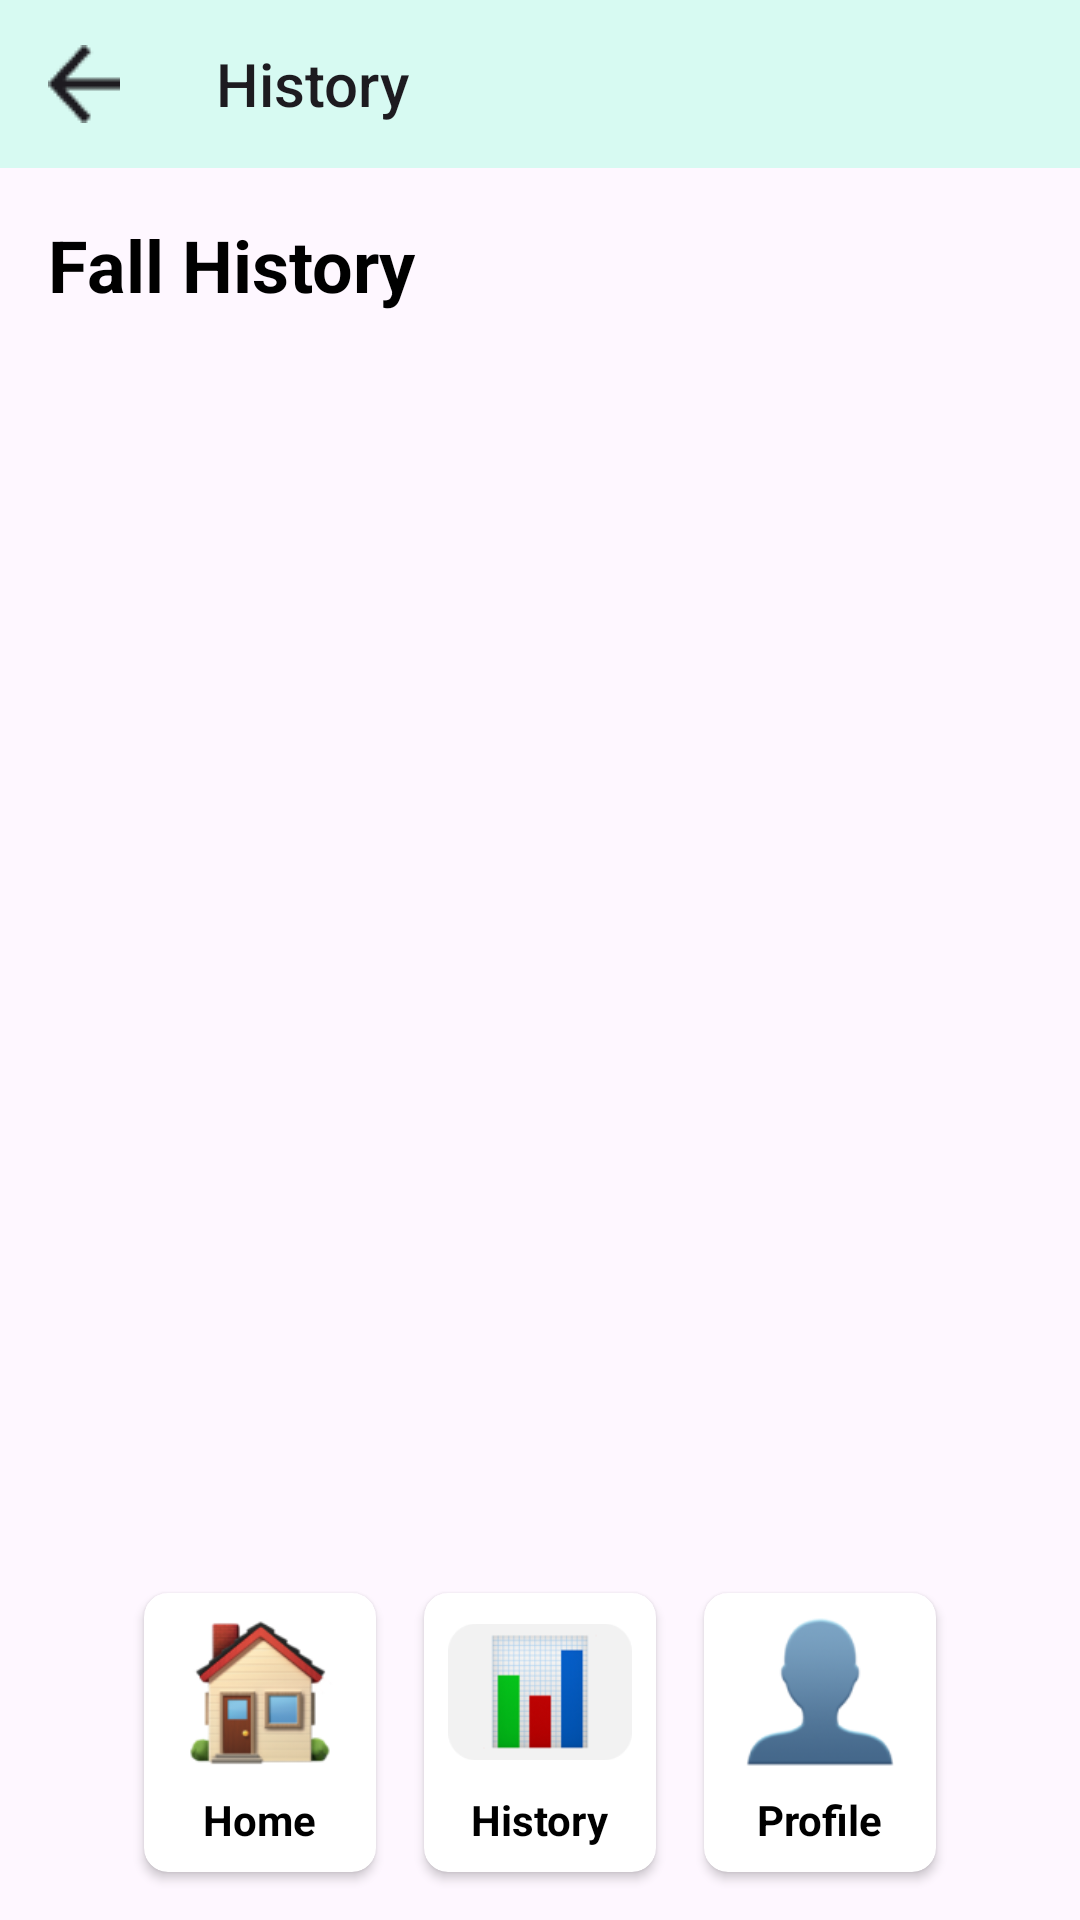

Locate icon controls on the screen. Image size 1080×1920, boxes as (x1, y1, x2, y2).
metrics: (491, 1635, 589, 1749)
